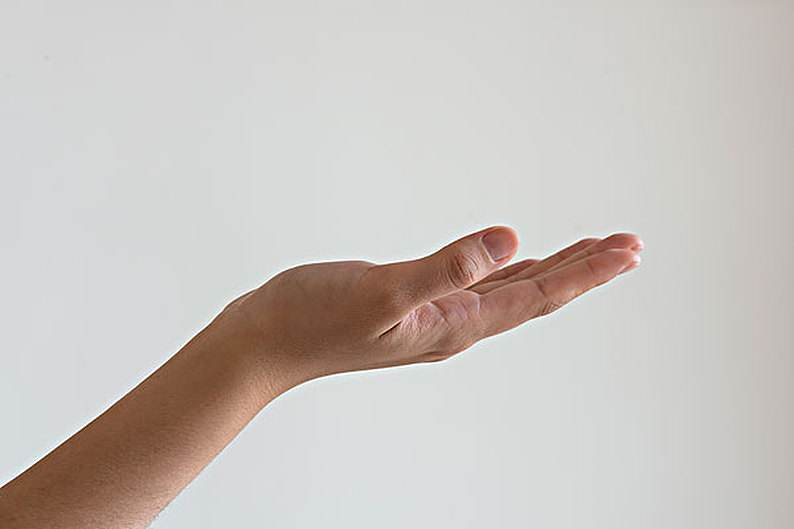no-phone: (224, 220, 648, 375)
